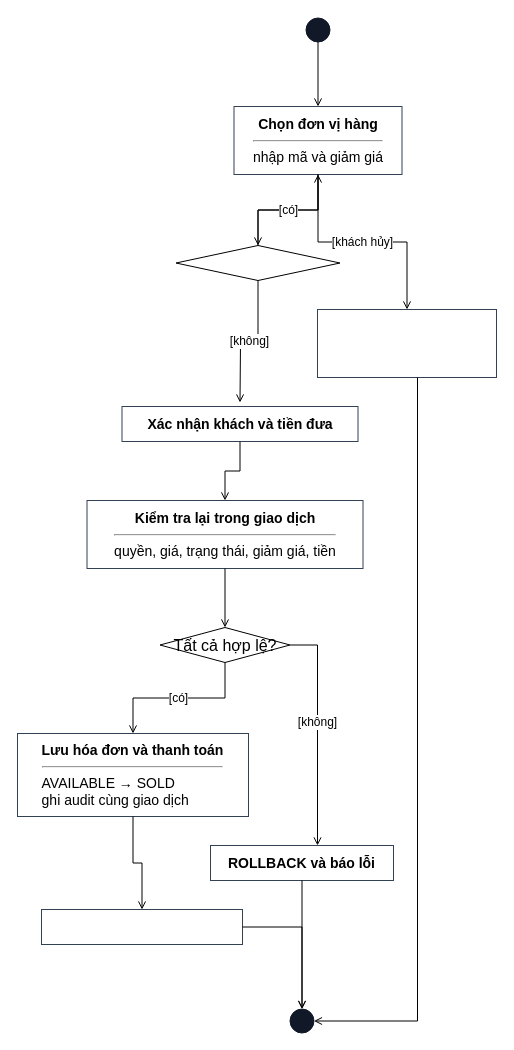
The diagram is 514 pixels wide and 1050 high, and some of its shapes have lost their labels. Each missing label, with the box of its shape:
COMMIT và trả kết quả: (40, 908, 242, 944)
Khách chọn thêm?: (175, 244, 340, 280)
Khách hủy bản nháp không đổi tồn kho: (316, 308, 496, 378)
